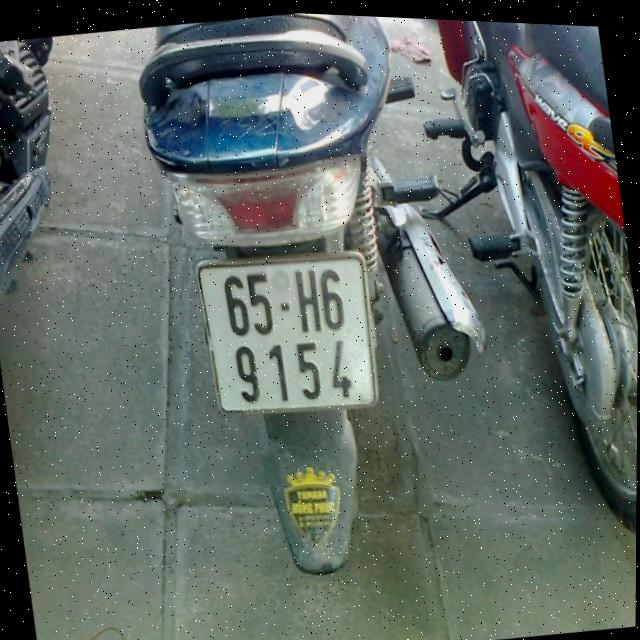motorcycle: (124, 6, 511, 609), (406, 18, 640, 580), (0, 33, 102, 349)
plate: (183, 229, 393, 433)
